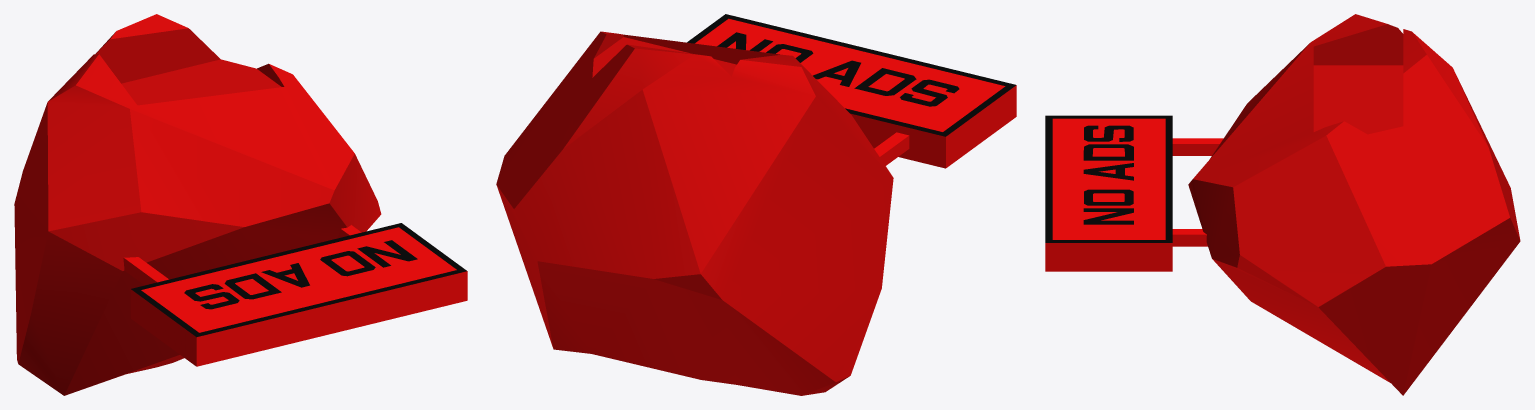
File: Asteroid.fbx
3 views of the same model, side by side, from view 1: azimuth 30°, elevation 25°; view 2: azimuth 150°, elevation 25°; view 3: azimuth 270°, elevation 25° (orthographic). The views are drawn at different scales.
Visible parts, largest first — view 1: Asteroid; view 2: Asteroid; view 3: Asteroid.
Boxes of the visible parts, left/top/right/bottom form: Asteroid: left=14, top=14, right=467, bottom=395; Asteroid: left=496, top=14, right=1016, bottom=395; Asteroid: left=1045, top=14, right=1520, bottom=395.
Size of the model in its own units: 1.33 by 1.24 by 1.71.
